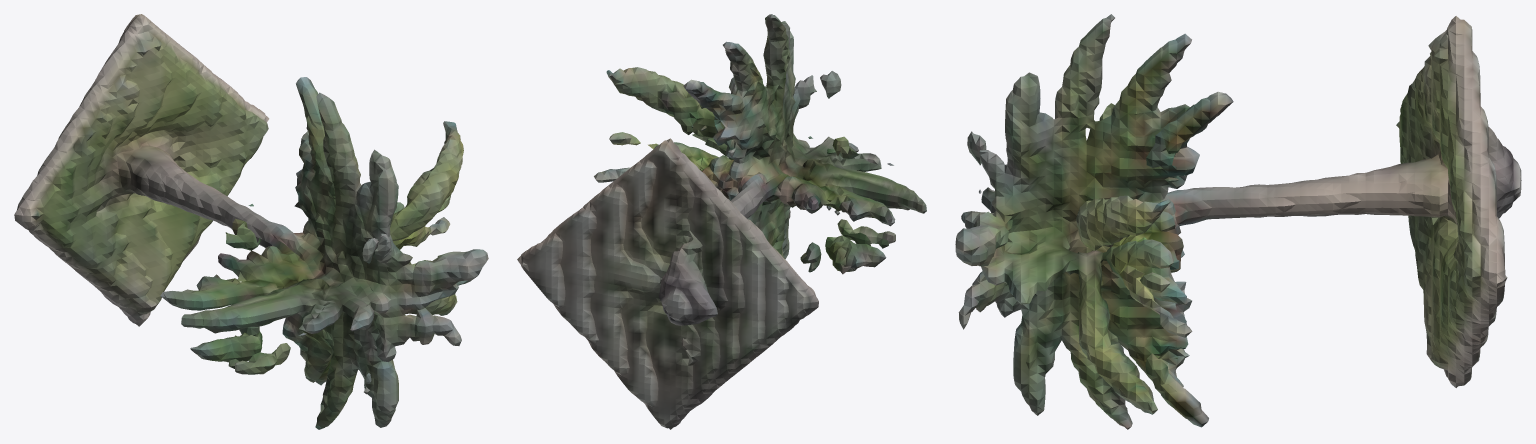
3 views of the same model, side by side, from view 1: azimuth 30°, elevation 25°; view 2: azimuth 150°, elevation 25°; view 3: azimuth 270°, elevation 25° (orthographic). The views are drawn at different scales.
Parts seen in each view (by area): view 1: world; view 2: world; view 3: world.
Boxes of the visible parts, x1,y1,x2,y2 form: world: (14,14,488,429); world: (517,14,926,429); world: (955,14,1521,429).
Bounding box in the file's own units: 0.7768 × 0.7549 × 0.9449.
